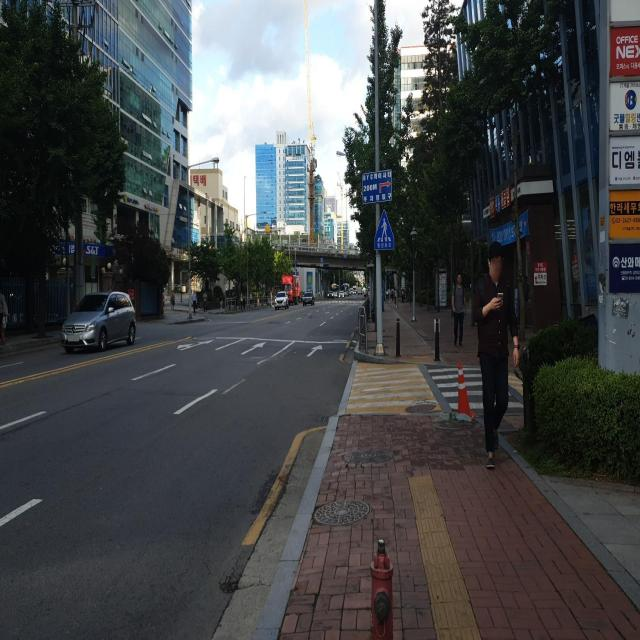횡단보도: (427, 367, 524, 410)
